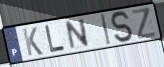I: (99, 13, 112, 46)
K: (21, 26, 45, 57)
L: (44, 24, 67, 55)
N: (64, 17, 91, 52)
S: (109, 10, 136, 44)
Z: (131, 6, 159, 41)
